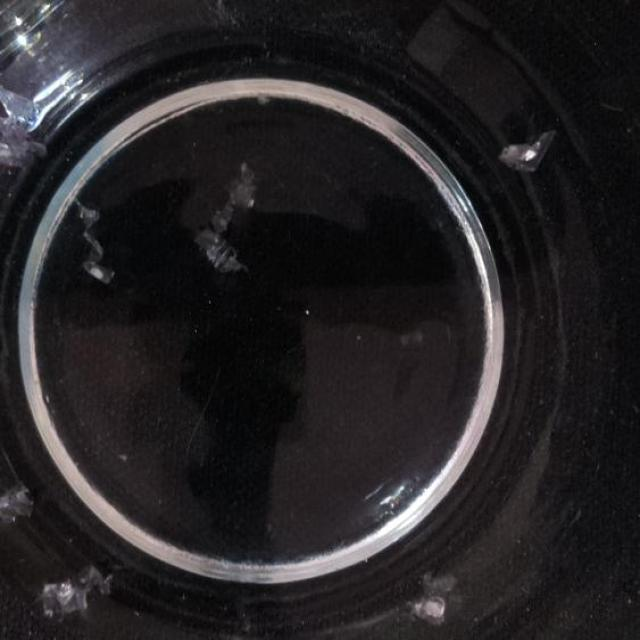fiber: (192, 162, 265, 276), (40, 567, 116, 627), (2, 89, 52, 174), (71, 196, 113, 287), (498, 126, 561, 170), (414, 568, 456, 624), (2, 489, 36, 526)
